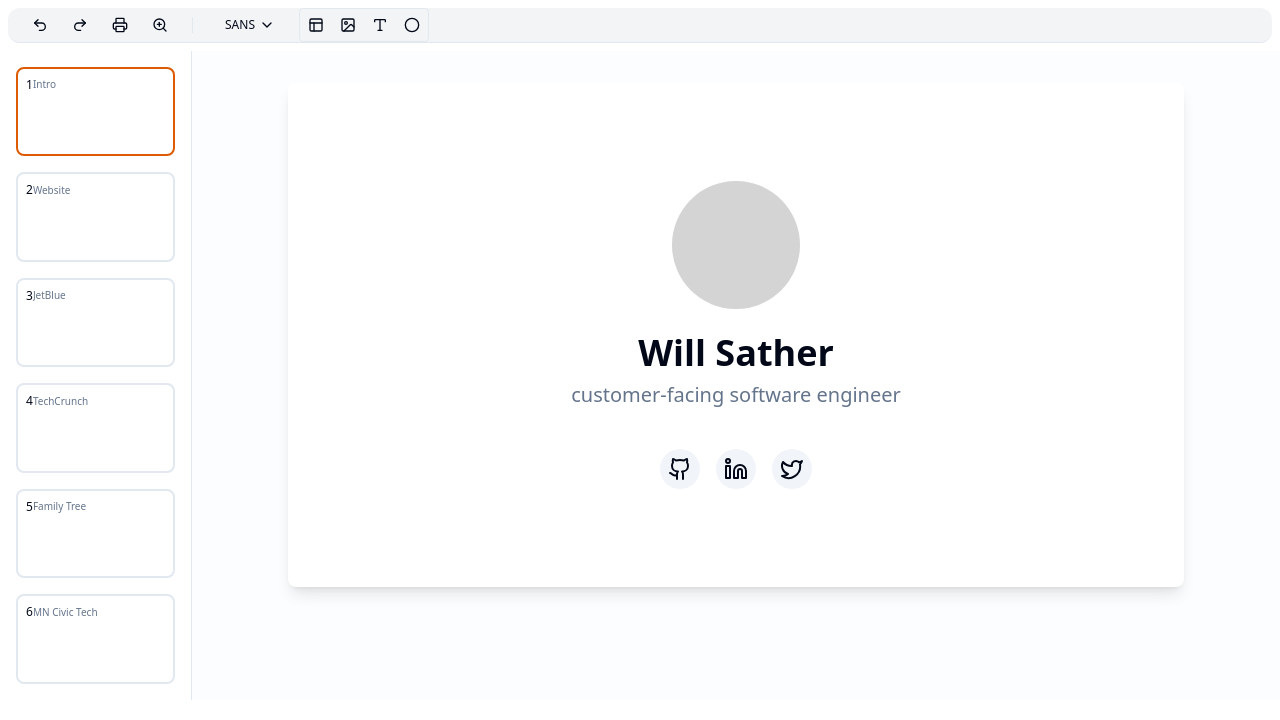
slides › changes the slide font through the Radix menu
Click the button "sans" at (250, 25), box [209, 9, 291, 41]
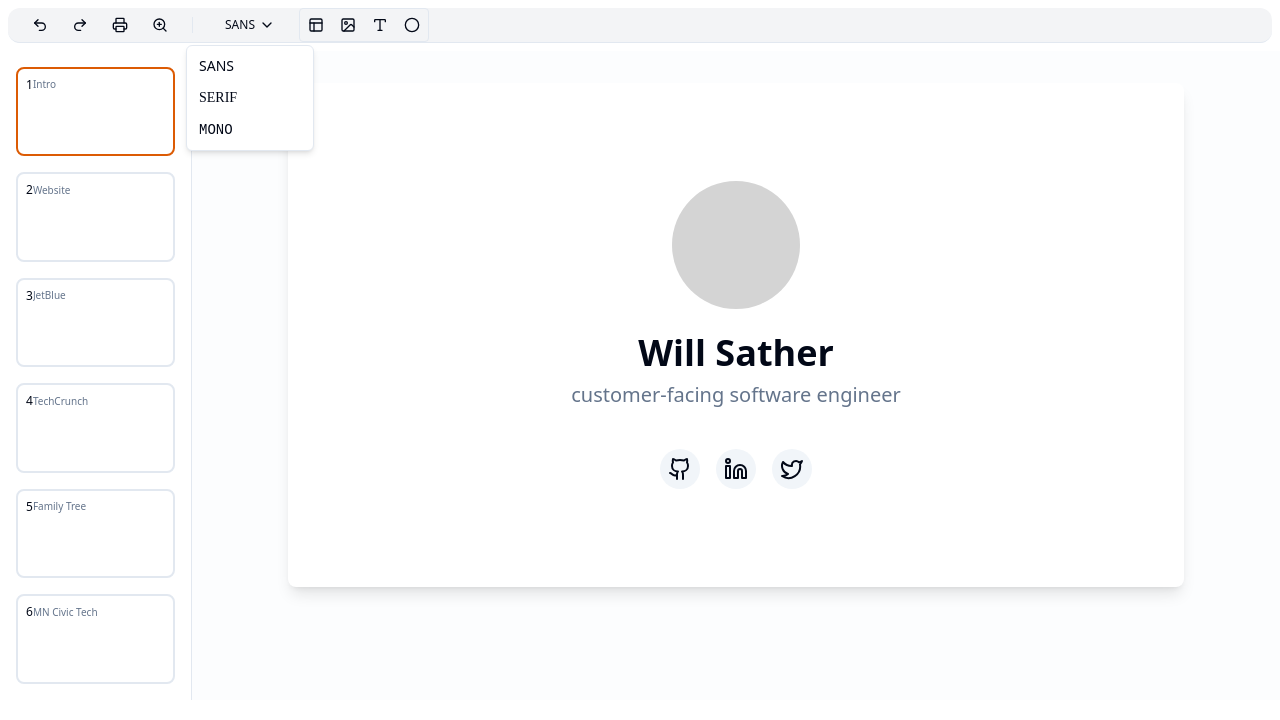
Click the menu item "serif" at (218, 98), box [199, 90, 237, 105]
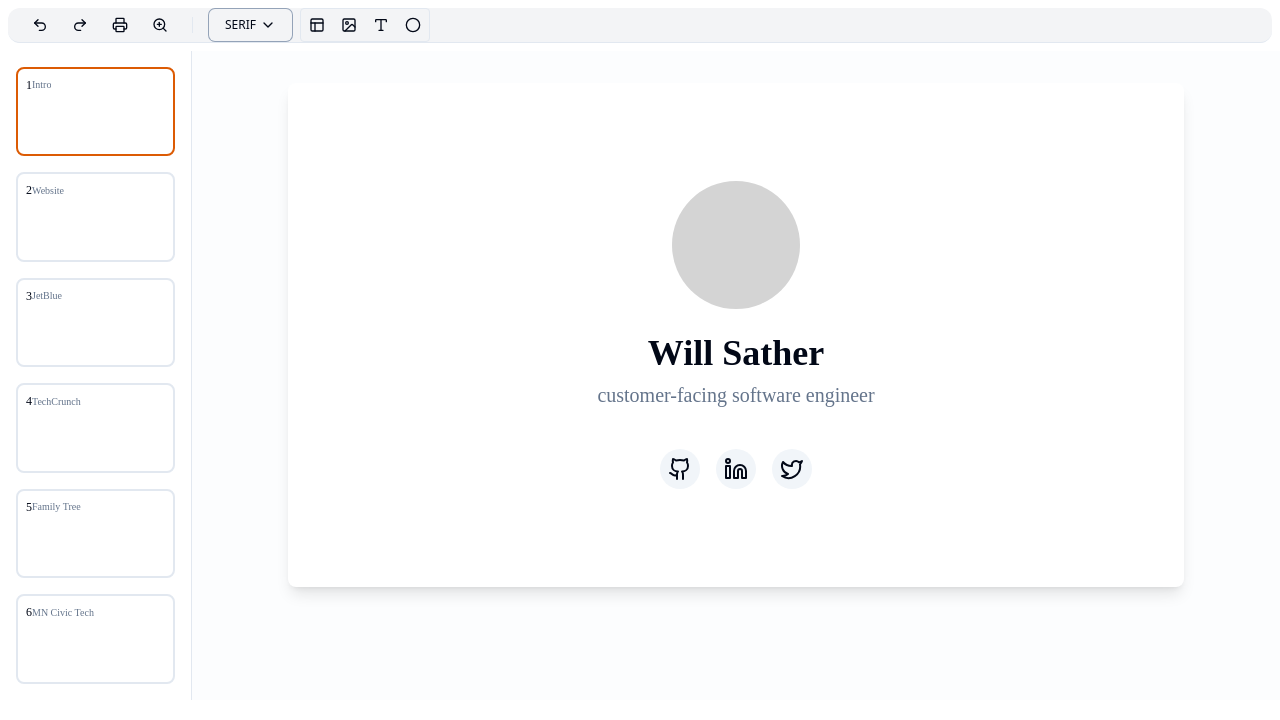
Check: the button "serif" is shown, box [209, 9, 292, 41]
Check: the element with class "font-serif" is shown
